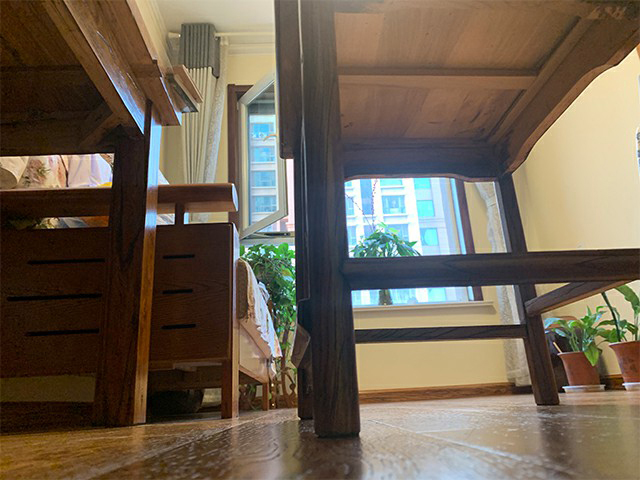curtain: (476, 181, 533, 388)
sofa: (1, 153, 282, 422)
stool: (271, 1, 640, 438)
table: (1, 1, 183, 428)
